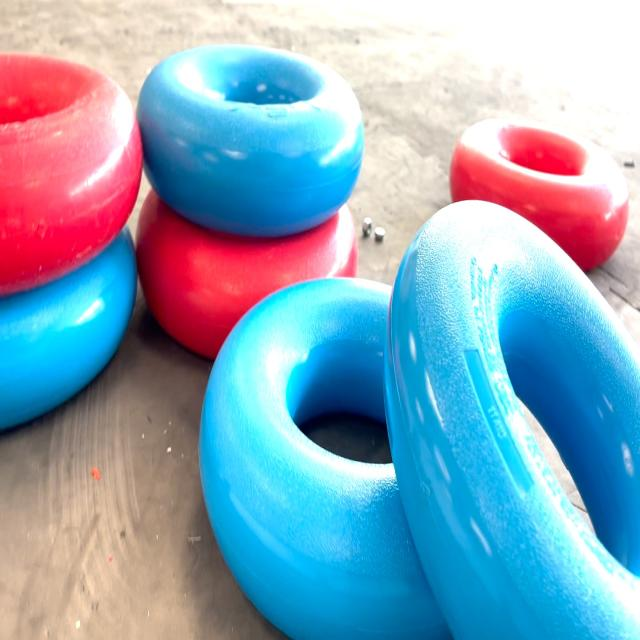Blue-Ring: (384, 202, 640, 638), (199, 278, 449, 638), (138, 44, 364, 238), (0, 229, 138, 430)
Red-Ring: (136, 189, 359, 358), (0, 53, 142, 294), (450, 120, 629, 271)
